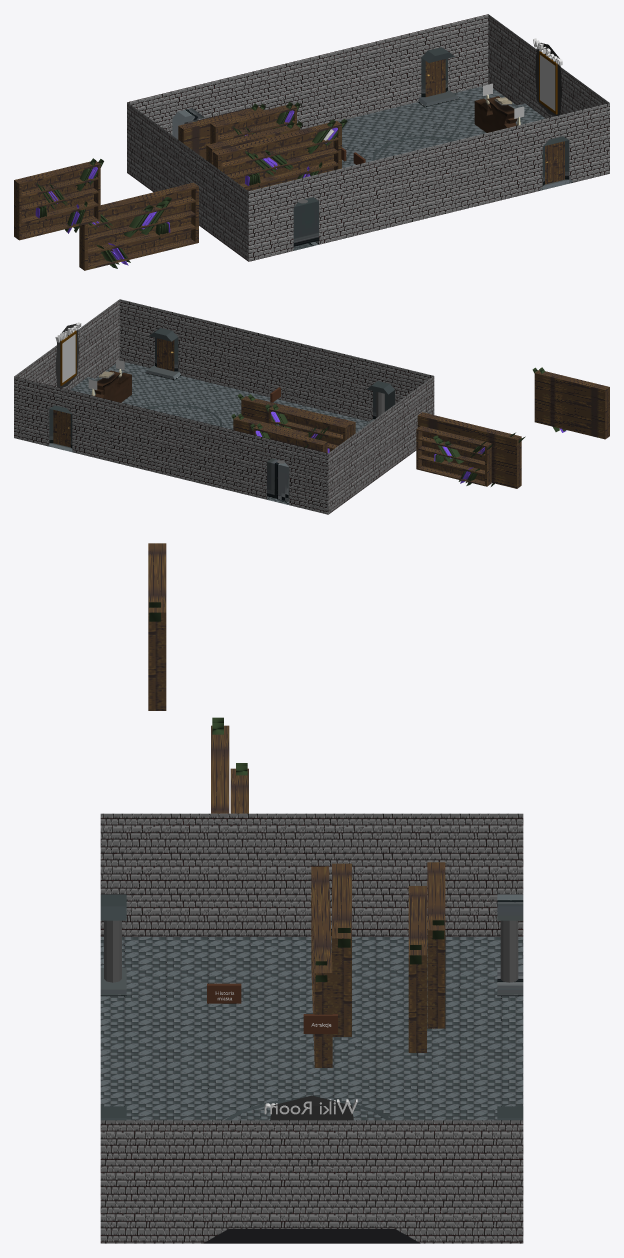
Rendered from wiki-Rooms.fbx.
3 renders of one model, top to bottom at view 1: azimuth 30°, elevation 25°; view 2: azimuth 150°, elevation 25°; view 3: azimuth 270°, elevation 25°, orthographic. The views are drawn at different scales.
Parts seen in each view (by area): view 1: room, bookshelf1, bookshelf1.003, bookshelf1.001, bookshelf1.005, bookshelf1.006, stand, Plane, bookshelf1.004, Sphere; view 2: room, bookshelf1.001, bookshelf1.002, bookshelf1, bookshelf1.004, bookshelf1.003, stand, bookshelf1.006, Plane, bookshelf1.005, Sphere; view 3: room, bookshelf1.003, bookshelf1.004, bookshelf1.001, bookshelf1.006, bookshelf1.005, bookshelf1, Sphere.
Part boxes in pixels (x1,y1,x2,y2): room: (127, 14, 609, 261); bookshelf1: (79, 182, 198, 270); bookshelf1.003: (212, 121, 341, 190); bookshelf1.001: (14, 161, 100, 240); bookshelf1.005: (210, 105, 296, 143); bookshelf1.006: (178, 106, 263, 159); stand: (474, 94, 520, 132); Plane: (539, 51, 557, 114); bookshelf1.004: (206, 124, 300, 164); Sphere: (535, 43, 562, 116); room: (14, 299, 434, 514); bookshelf1.001: (534, 370, 609, 439); bookshelf1.002: (416, 426, 491, 486); bookshelf1: (417, 412, 521, 488); bookshelf1.004: (268, 406, 350, 451); bookshelf1.003: (241, 396, 355, 436); stand: (91, 369, 131, 402); bookshelf1.006: (253, 426, 327, 452); Plane: (60, 330, 76, 385); bookshelf1.005: (233, 416, 308, 436); Sphere: (55, 323, 78, 387); room: (100, 813, 523, 1243); bookshelf1.003: (311, 866, 332, 1067); bookshelf1.004: (332, 863, 351, 1036); bookshelf1.001: (148, 543, 166, 710); bookshelf1.006: (427, 862, 445, 1028); bookshelf1.005: (408, 886, 426, 1052); bookshelf1: (211, 725, 229, 813); Sphere: (270, 1095, 353, 1165).
Size of the model in its own units: 19659 by 5811 by 7170.
